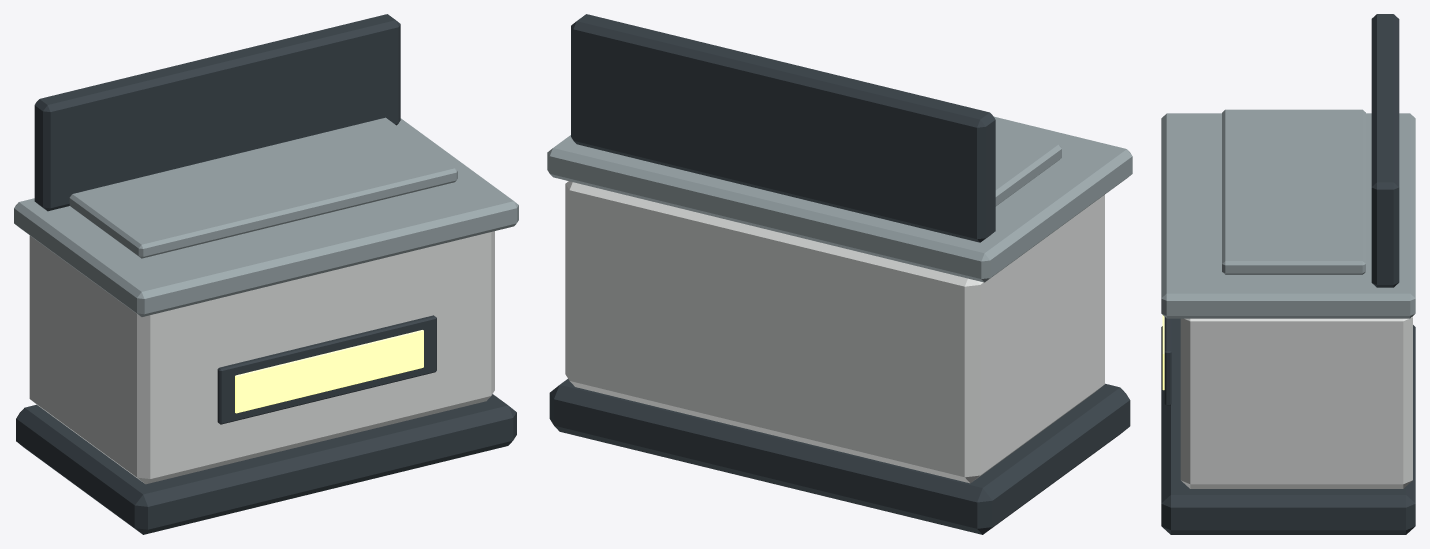
File: IngredientPickup.glb
3 renders of one model, left to right at view 1: azimuth 30°, elevation 25°; view 2: azimuth 150°, elevation 25°; view 3: azimuth 270°, elevation 25°, orthographic. The views are drawn at different scales.
Parts seen in each view (by area): view 1: Cabinet.003, BackRail, Top.003, Conveyor, Plinth.003, PickupGlow, DeliverySlot; view 2: Cabinet.003, BackRail, Plinth.003, Top.003, Conveyor; view 3: Cabinet.003, Top.003, Conveyor, Plinth.003, BackRail, DeliverySlot.
Boxes of the visible parts, x1,y1,x2,y2 form: Cabinet.003: (29, 231, 494, 484); BackRail: (34, 14, 400, 211); Top.003: (14, 118, 518, 316); Conveyor: (69, 117, 457, 258); Plinth.003: (16, 394, 516, 534); PickupGlow: (235, 330, 423, 413); DeliverySlot: (217, 315, 436, 424); Cabinet.003: (565, 181, 1104, 483); BackRail: (571, 14, 995, 242); Plinth.003: (549, 379, 1130, 534); Top.003: (547, 116, 1132, 282); Conveyor: (995, 129, 1061, 206); Cabinet.003: (1180, 316, 1412, 488); Top.003: (1161, 113, 1415, 318); Conveyor: (1222, 109, 1365, 274); Plinth.003: (1161, 318, 1415, 534); BackRail: (1371, 14, 1399, 287); DeliverySlot: (1164, 317, 1171, 405).
Size of the model in its own units: 1.58 by 1.39 by 0.92.
